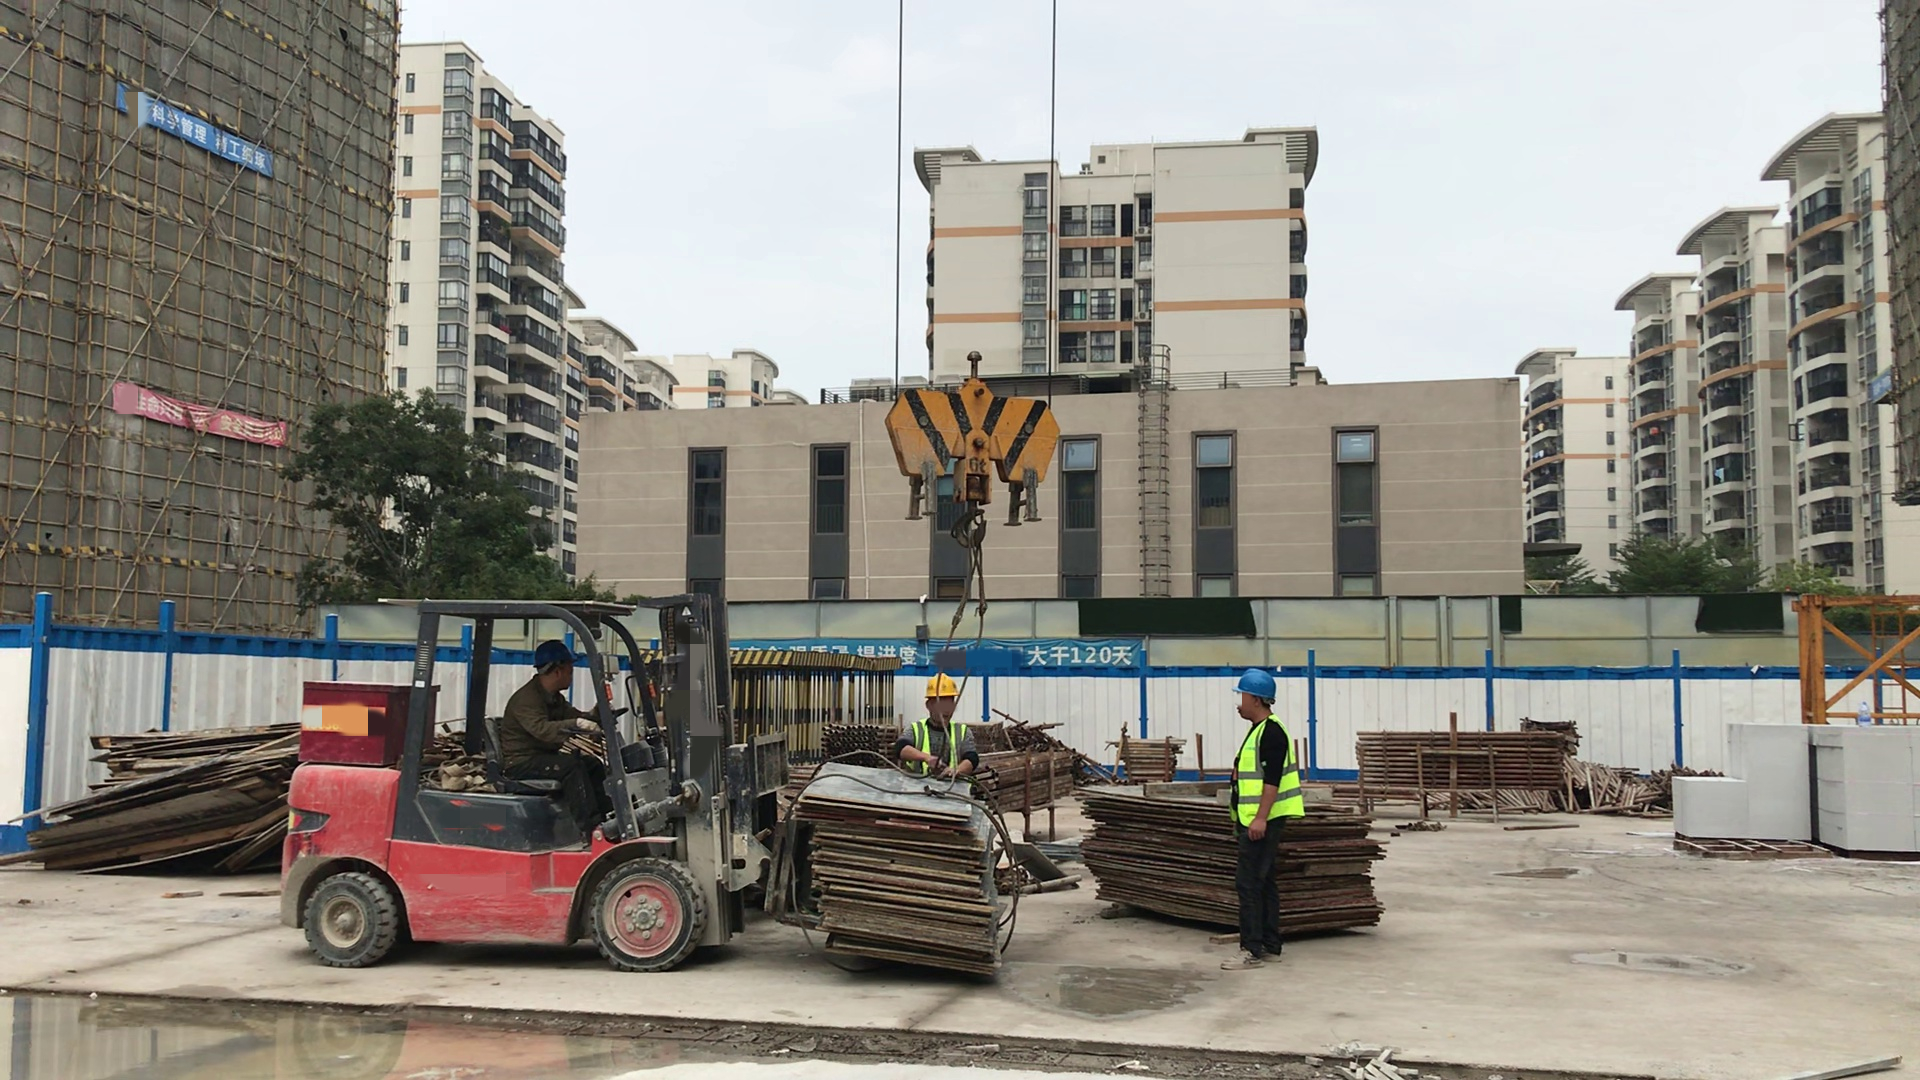board: (800, 754, 1014, 991), (18, 717, 285, 878), (1067, 776, 1240, 960), (1284, 804, 1396, 946)
brick: (1671, 722, 1812, 843), (1813, 726, 1920, 855)
helmet: (1231, 668, 1278, 707), (530, 638, 573, 675), (920, 674, 960, 700)
hook: (878, 354, 1063, 546)
person: (1221, 667, 1308, 975), (500, 643, 610, 842), (901, 671, 982, 779)
scaffold: (1349, 726, 1565, 794), (1099, 733, 1183, 776)
slogan: (129, 90, 274, 172), (108, 386, 288, 450), (952, 643, 1140, 671), (1866, 365, 1891, 402)
vest: (1230, 715, 1308, 827), (908, 718, 968, 778)
